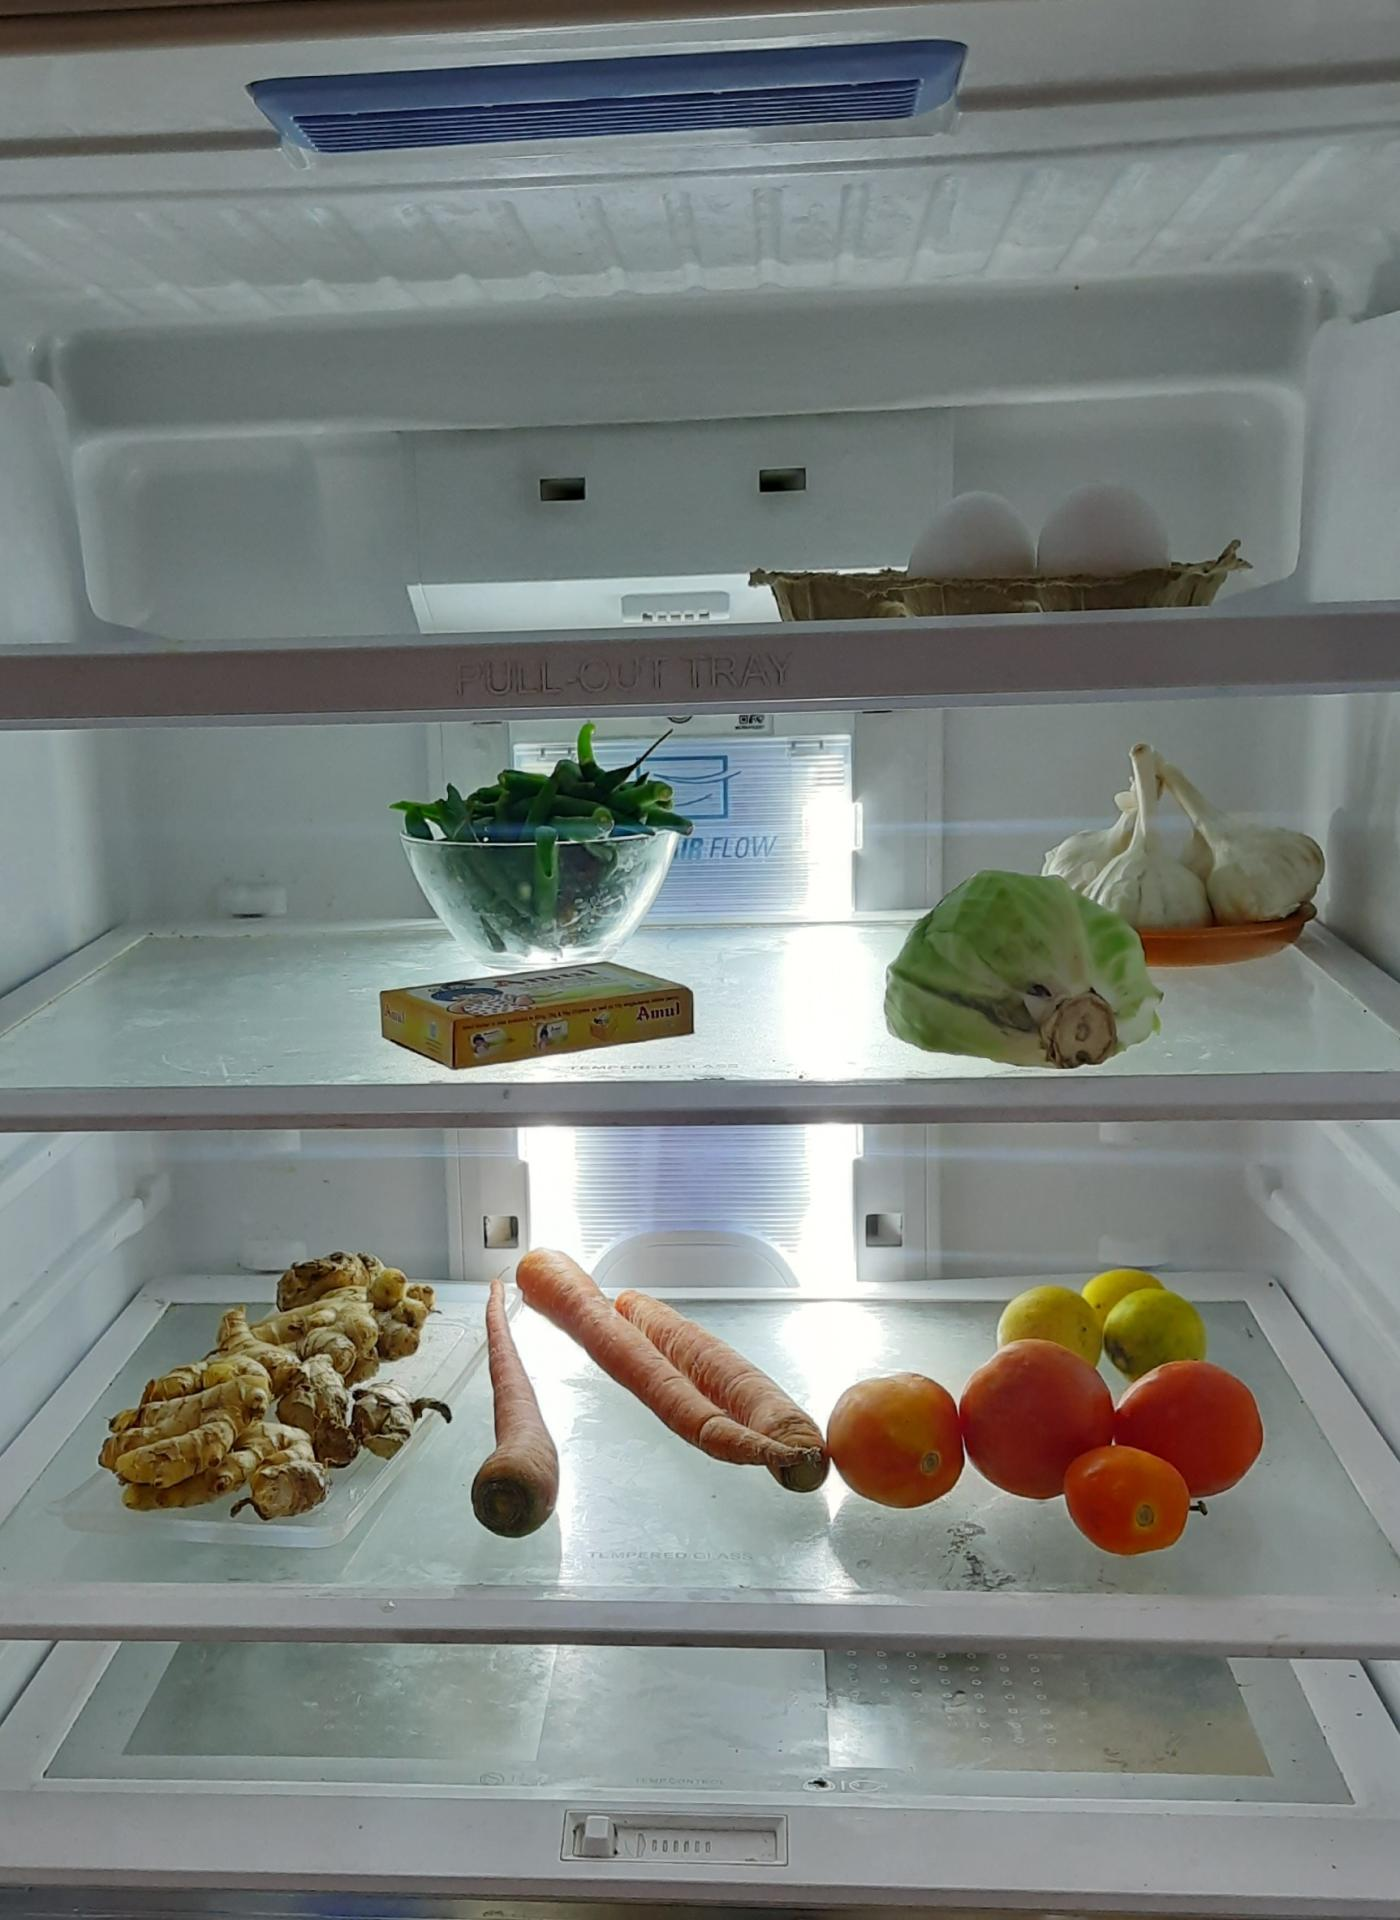butter: (379, 957, 698, 1064)
cabbage: (881, 875, 1153, 1075)
carrots: (455, 1239, 842, 1556)
chillies: (406, 742, 683, 953)
egg: (902, 477, 1161, 574)
garlic: (1051, 742, 1318, 938)
ginger: (115, 1251, 435, 1520)
lemon: (1003, 1267, 1208, 1360)
tomato: (817, 1334, 1264, 1555)
